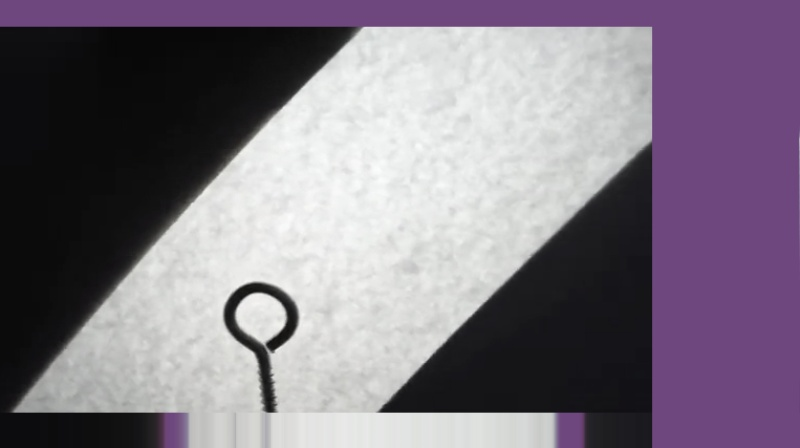O001: (220, 278, 306, 424)
